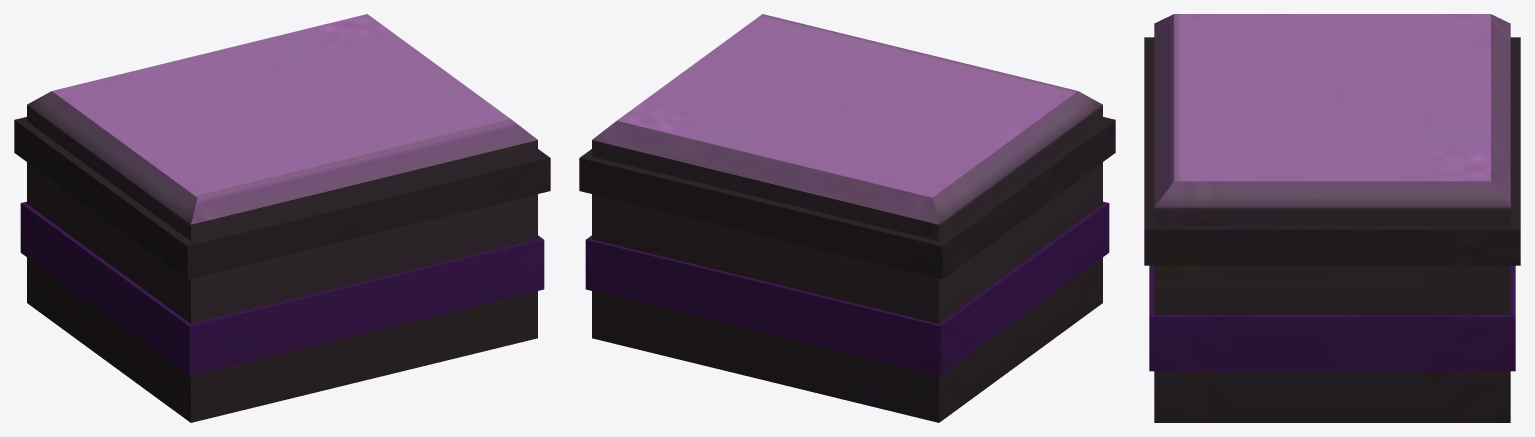
The model's file is active-provider-chest.glb.
3 views of the same model, side by side, from view 1: azimuth 30°, elevation 25°; view 2: azimuth 150°, elevation 25°; view 3: azimuth 270°, elevation 25° (orthographic). The views are drawn at different scales.
Parts seen in each view (by area): view 1: active-provider-chest; view 2: active-provider-chest; view 3: active-provider-chest.
Part boxes in pixels (x1,y1,x2,y2): active-provider-chest: [14, 14, 550, 422]; active-provider-chest: [579, 14, 1115, 422]; active-provider-chest: [1144, 14, 1520, 422].
Bounding box in the file's own units: 0.23 × 0.13 × 0.19.
1 material, 1 textured.
